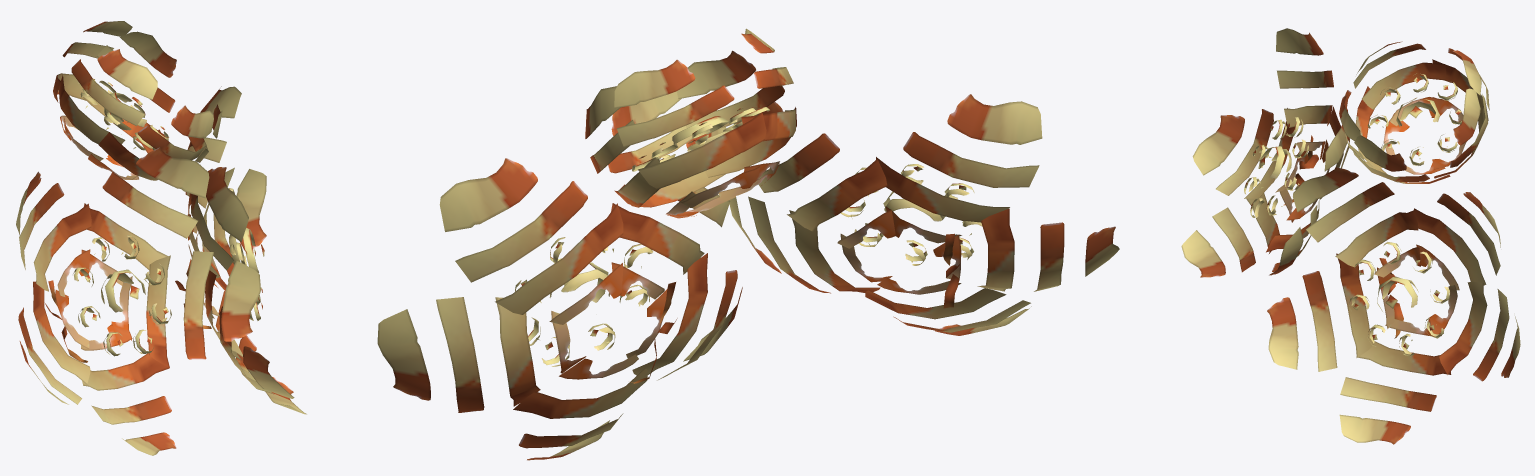
File: pm0134_00_Rig.fbx
The picture shows the model from 3 angles, left to right: view 1: azimuth 30°, elevation 25°; view 2: azimuth 150°, elevation 25°; view 3: azimuth 270°, elevation 25°; orthographic projection. The views are drawn at different scales.
Visible parts, largest first — view 1: doodad_spring_2023_flower; view 2: doodad_spring_2023_flower; view 3: doodad_spring_2023_flower.
Boxes of the visible parts, box(x1,y1,x2,y2) form: doodad_spring_2023_flower: box(16, 21, 306, 455); doodad_spring_2023_flower: box(377, 28, 1119, 460); doodad_spring_2023_flower: box(1181, 28, 1520, 444).
Size of the model in its own units: 0.1057 by 0.0917 by 0.0845.
